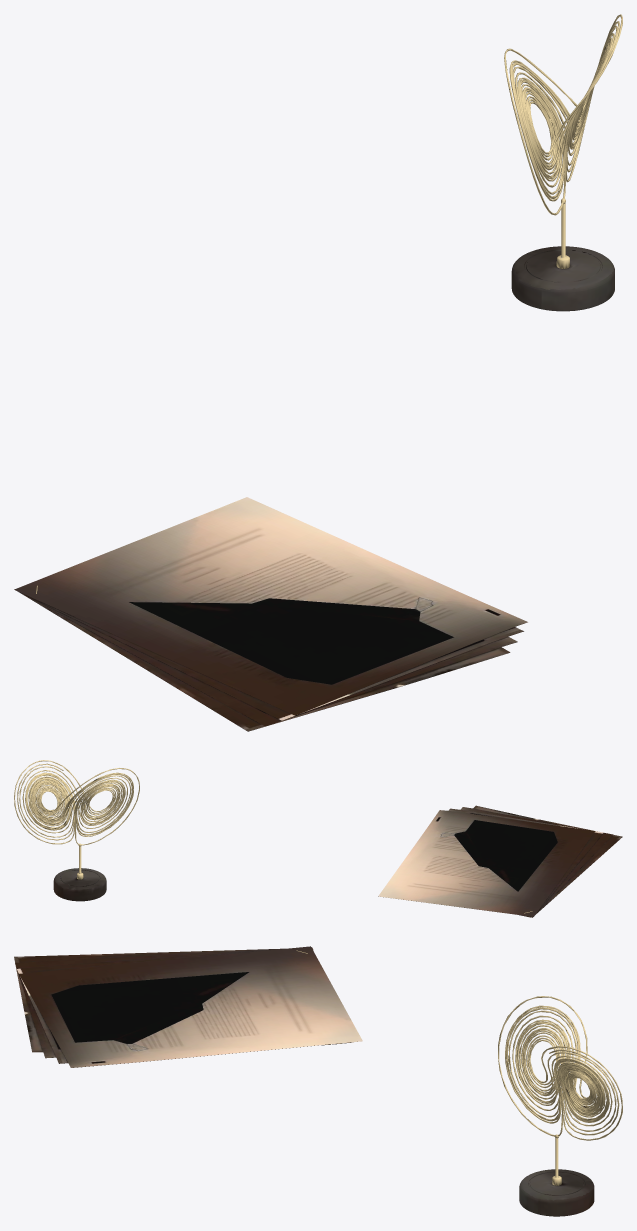
The model's file is lorenz.glb.
The picture shows the model from 3 angles, top to bottom: view 1: azimuth 30°, elevation 25°; view 2: azimuth 150°, elevation 25°; view 3: azimuth 270°, elevation 25°; orthographic projection. The views are drawn at different scales.
Visible parts, largest first — view 1: NEW_lorenz_root__mesh; view 2: NEW_lorenz_root__mesh; view 3: NEW_lorenz_root__mesh.
Part boxes in pixels (x1,y1,x2,y2): NEW_lorenz_root__mesh: [14, 14, 622, 731]; NEW_lorenz_root__mesh: [14, 760, 622, 917]; NEW_lorenz_root__mesh: [14, 946, 622, 1216].
Size of the model in its own units: 0.6306 by 0.1887 by 0.5675.
2 materials, 2 textured.
